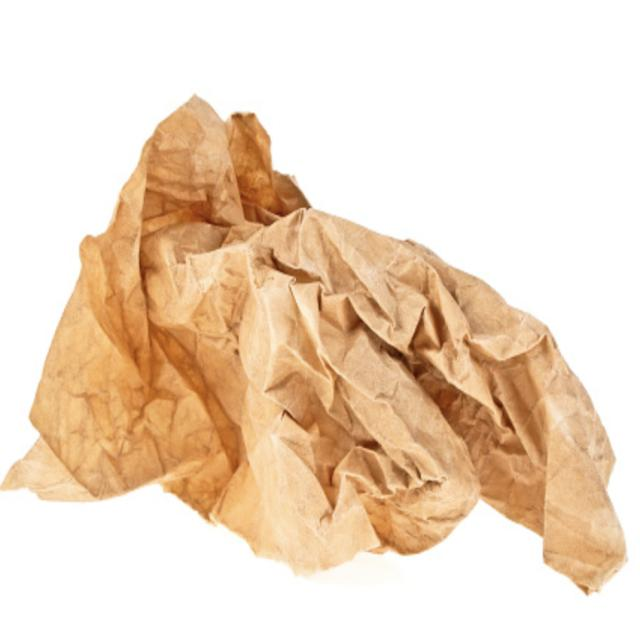biodegradable: (55, 76, 612, 611)
